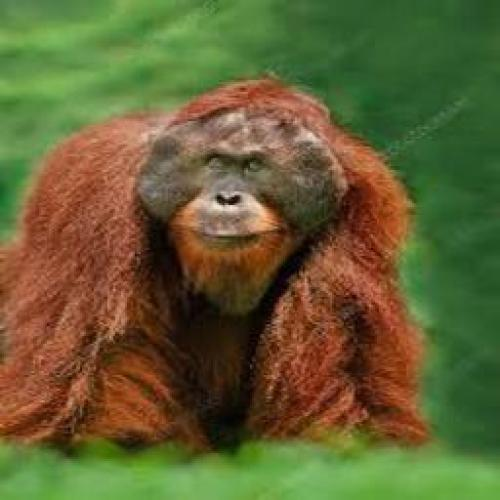orangutan-endangered: (0, 83, 432, 451)
